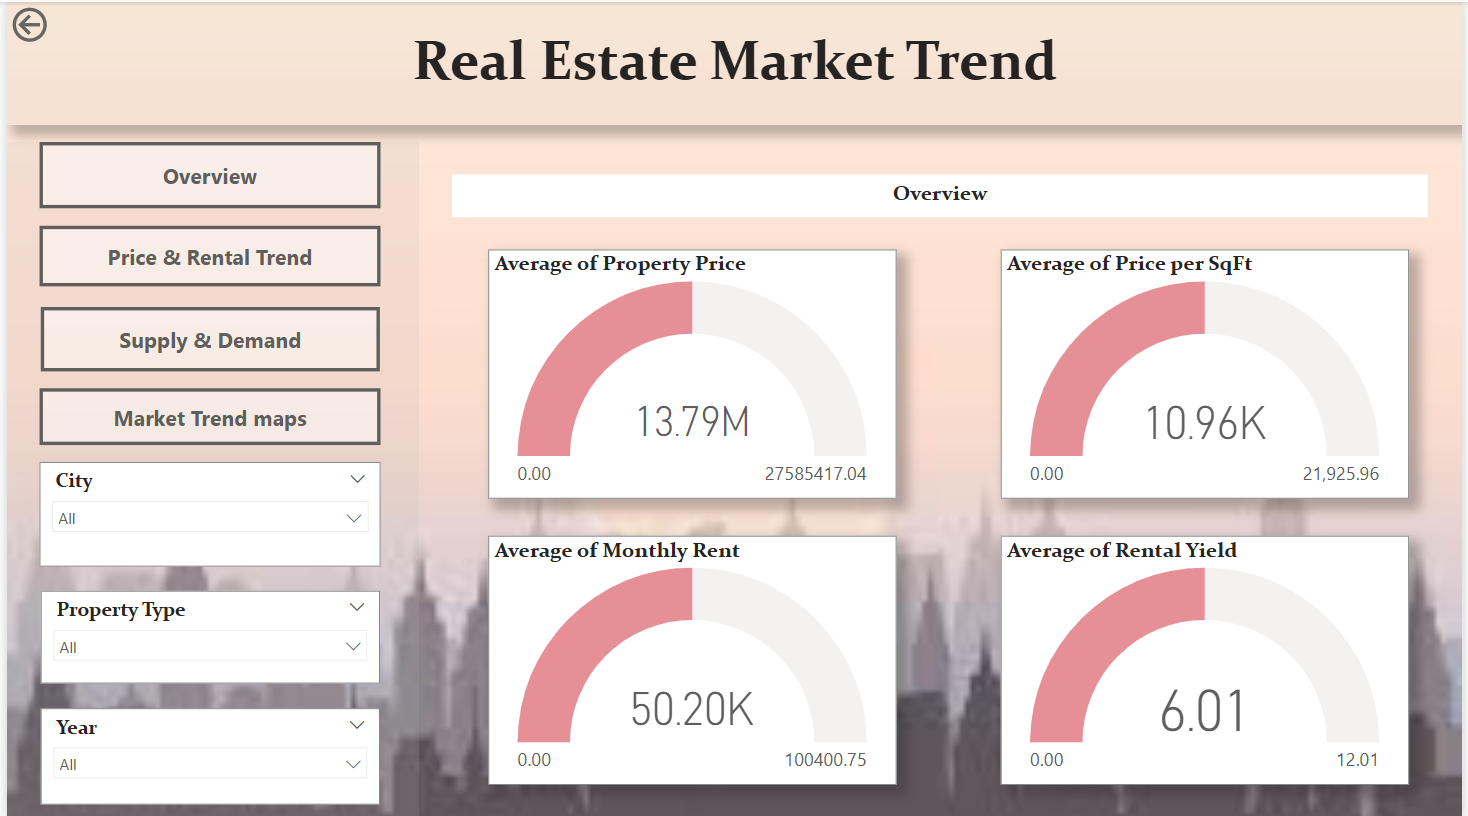

What the dashboard file says about the page in this screenshot:
{"tool":"powerbi","page":{"name":"Overview","canvas":[1280,720],"ordinal":0},"visuals":[{"type":"gauge","title":"Average of Property Price","fields":{"Y":["Avg(Sheet1.Sale_Price)"]},"box":[423.7,218,359.5,219.6],"z":0},{"type":"gauge","title":"Average of Rental Yield","fields":{"Y":["Avg(Sheet1.Rental_Yield_%)"]},"box":[873.8,469.2,359.5,219.6],"z":1000},{"type":"gauge","title":"Average of Monthly Rent","fields":{"Y":["Avg(Sheet1.Monthly_Rent)"]},"box":[423.7,469.2,359.5,219.6],"z":2000},{"type":"gauge","title":"Average of Price per SqFt","fields":{"Y":["Avg(Sheet1.Price_per_SqFt)"]},"box":[873.8,218,359.5,219.6],"z":3000},{"type":"textbox","box":[0,123.5,362.3,596.9],"z":4000},{"type":"slicer","fields":{"Values":["real_estate_data.City"]},"box":[28.3,405,300,91.7],"z":5000},{"type":"slicer","fields":{"Values":["real_estate_data.Property_Type"]},"box":[30,518.3,298.3,81.7],"z":6000},{"type":"slicer","fields":{"Values":["Calendar.Year"]},"box":[30,621.7,298.3,85],"z":7000},{"type":"actionButton","box":[0,0,100,40],"z":8000},{"type":"textbox","title":"Real Estate Market Trends","box":[0,0,1280.3,107.8],"z":9000},{"type":"actionButton","box":[28.3,123.3,300,58.3],"z":10000},{"type":"actionButton","box":[28.3,196.7,300,53.3],"z":11000},{"type":"actionButton","box":[30,268.3,298.3,56.7],"z":12000},{"type":"actionButton","box":[28.3,340,300,50],"z":13000},{"type":"textbox","box":[391.3,152.1,858.6,37.3],"z":13002}]}

Visuals, with their boxes in screenshot pixels (x1, y1, x2, y2), scaled from the page's 1280x720 canvas onto the 1468x816 screenshot:
"Average of Property Price" gauge: (left=486, top=247, right=898, bottom=496)
"Average of Rental Yield" gauge: (left=1002, top=532, right=1414, bottom=781)
"Average of Monthly Rent" gauge: (left=486, top=532, right=898, bottom=781)
"Average of Price per SqFt" gauge: (left=1002, top=247, right=1414, bottom=496)
textbox: (left=0, top=140, right=416, bottom=815)
slicer - real_estate_data.City: (left=32, top=459, right=377, bottom=563)
slicer - real_estate_data.Property_Type: (left=34, top=587, right=377, bottom=680)
slicer - Calendar.Year: (left=34, top=705, right=377, bottom=801)
actionButton: (left=0, top=0, right=115, bottom=45)
"Real Estate Market Trends" textbox: (left=0, top=0, right=1467, bottom=122)
actionButton: (left=32, top=140, right=377, bottom=206)
actionButton: (left=32, top=223, right=377, bottom=283)
actionButton: (left=34, top=304, right=377, bottom=368)
actionButton: (left=32, top=385, right=377, bottom=442)
textbox: (left=449, top=172, right=1433, bottom=215)
